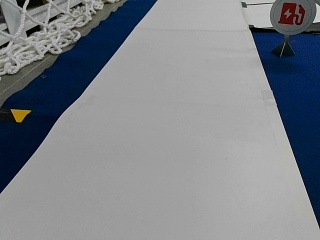battery: (269, 0, 315, 34)
